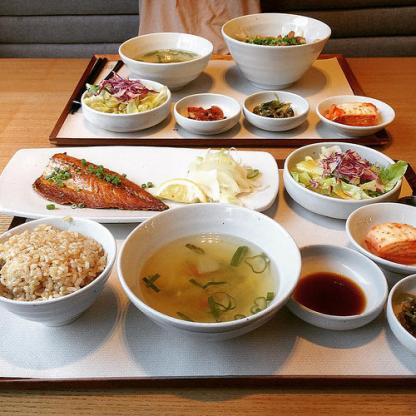Peixe: (30, 144, 171, 224)
